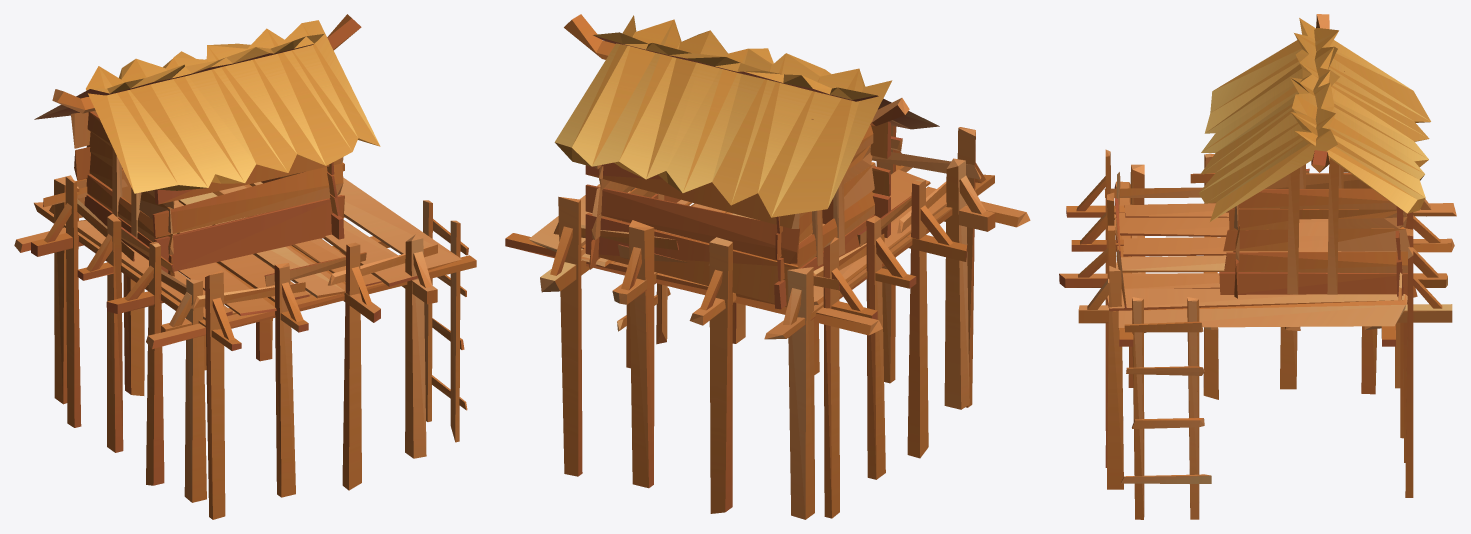
File: GL-Manmade-02-LOD3.fbx
3 renders of one model, left to right at view 1: azimuth 30°, elevation 25°; view 2: azimuth 150°, elevation 25°; view 3: azimuth 270°, elevation 25°, orthographic. The views are drawn at different scales.
Parts seen in each view (by area): view 1: GL_Manmade_02; view 2: GL_Manmade_02; view 3: GL_Manmade_02.
Boxes of the visible parts, x1=… form: GL_Manmade_02: x1=14, y1=14, x2=476, y2=519; GL_Manmade_02: x1=505, y1=14, x2=1030, y2=519; GL_Manmade_02: x1=1059, y1=14, x2=1456, y2=519.
Bounding box in the file's own units: 2.88 × 3.14 × 3.04.
